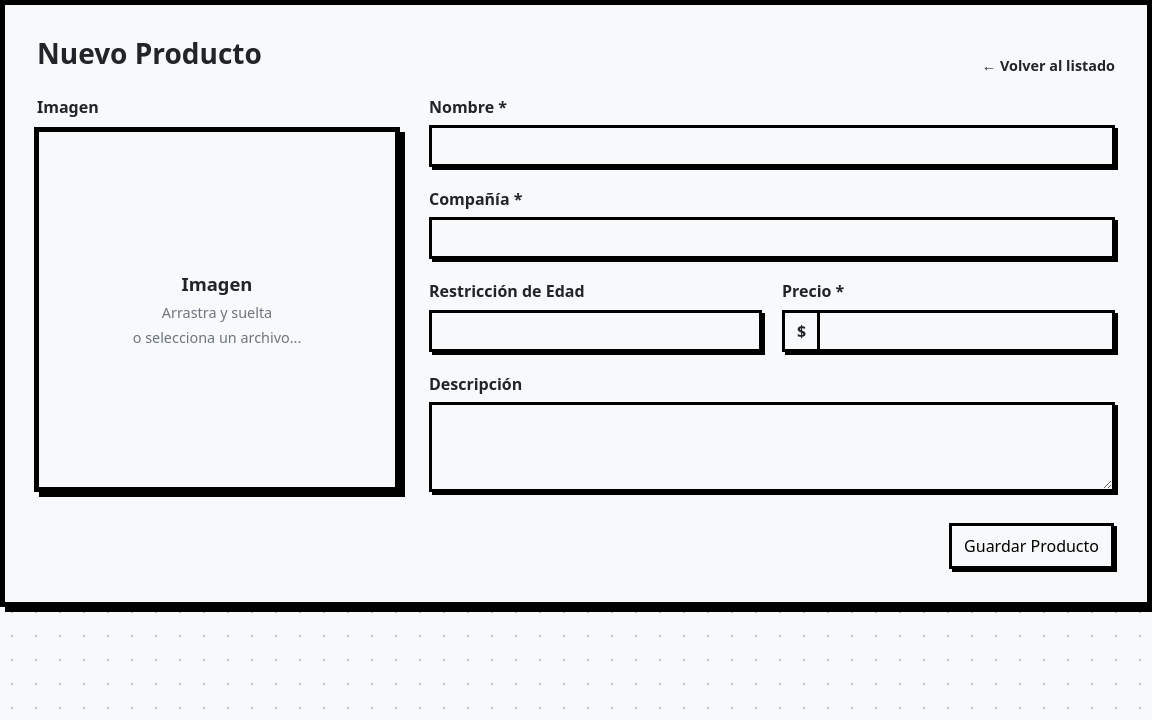
Test: ProductForm › Rechaza un precio de 0 (mínimo 1)
The width and height of the screenshot is (1152, 720).
In the field labelled "Nombre *": (772, 146) [429, 125, 1115, 167], type "Producto X"
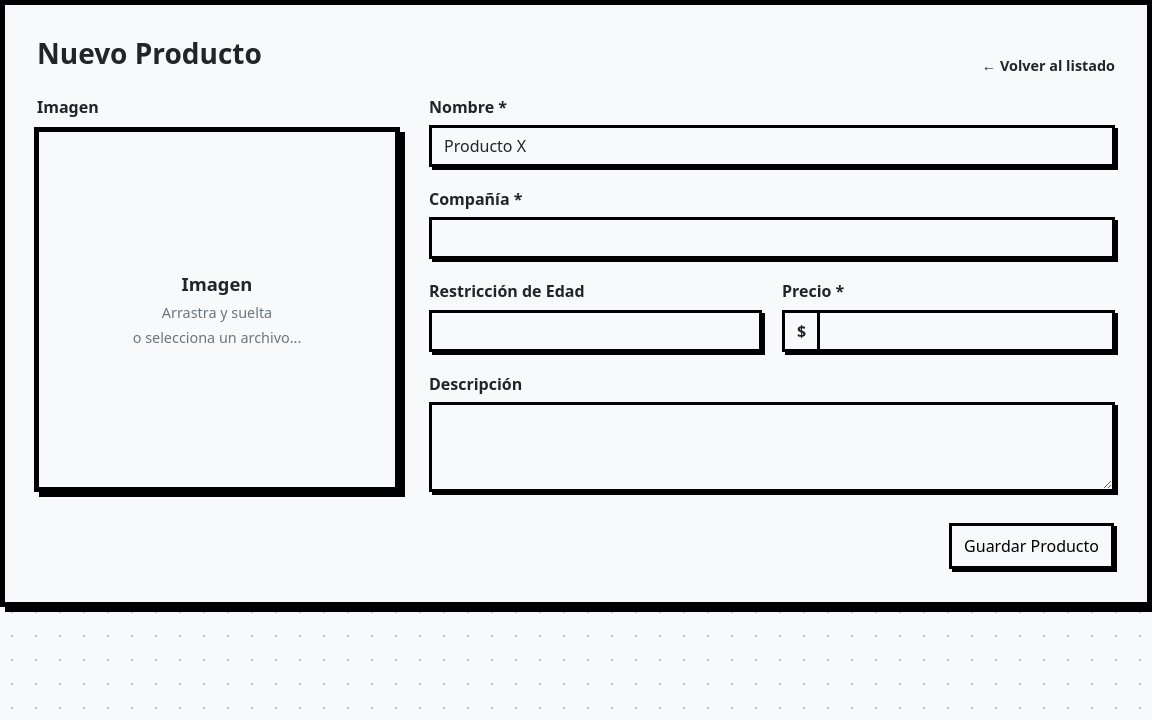
In the field labelled "Compañía *": (772, 238) [429, 217, 1115, 259], type "Empresa X"
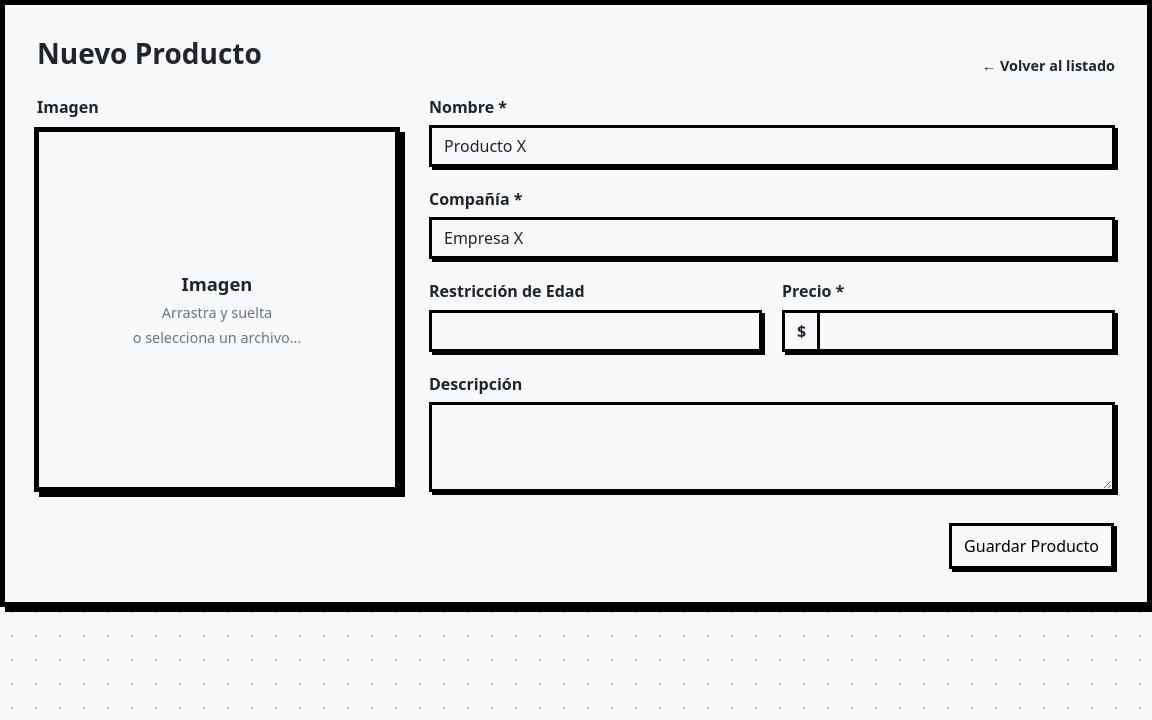
In the number field labelled "Precio *": (966, 331) [817, 310, 1115, 352], type "0"
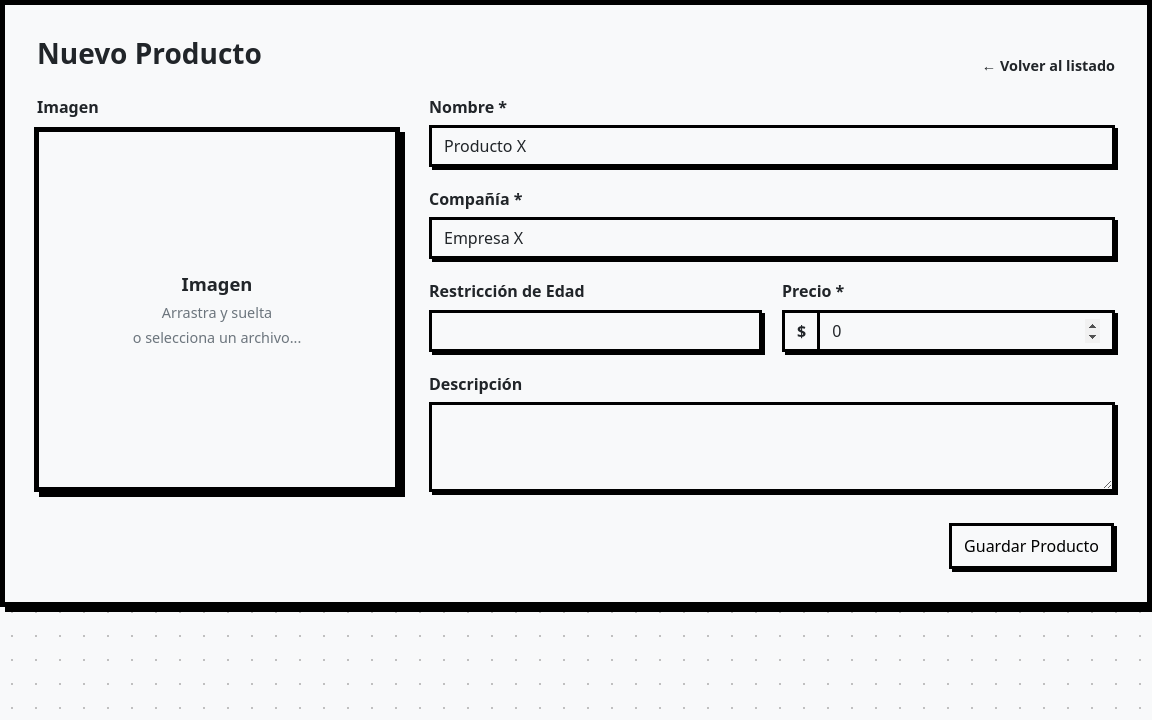
Click the button "Guardar Producto": (1032, 546) [949, 523, 1114, 569]
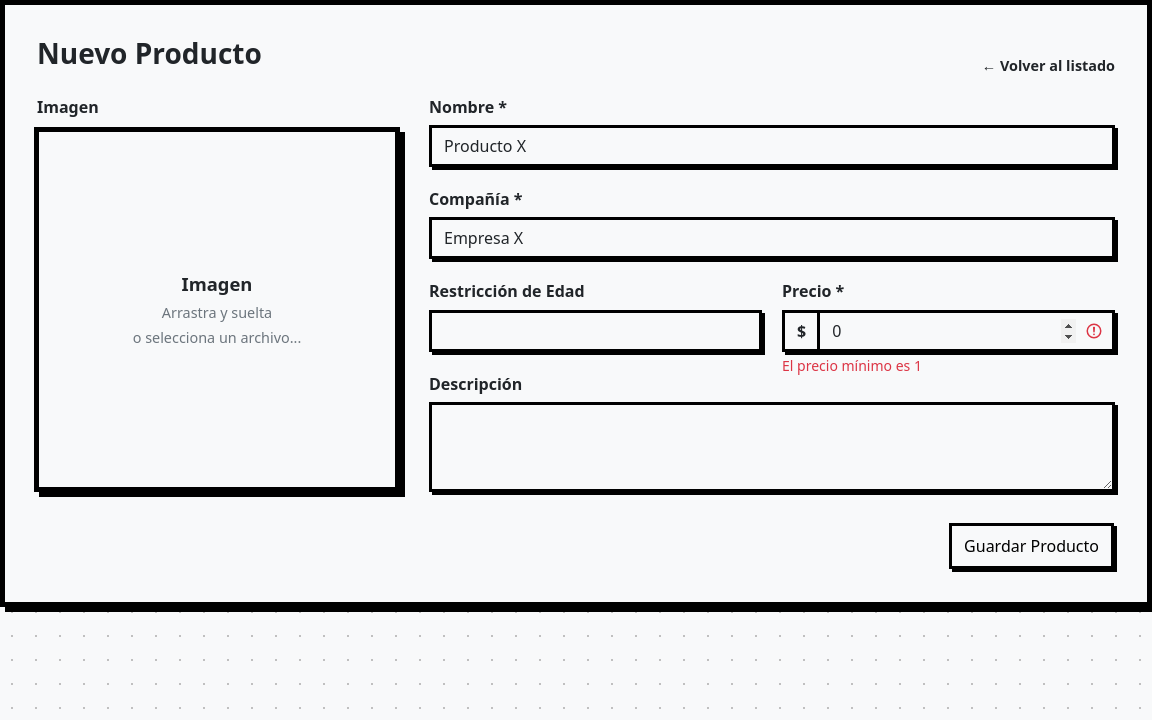
Expected: the text "El precio mínimo es 1" is shown, [782, 356, 922, 375]
